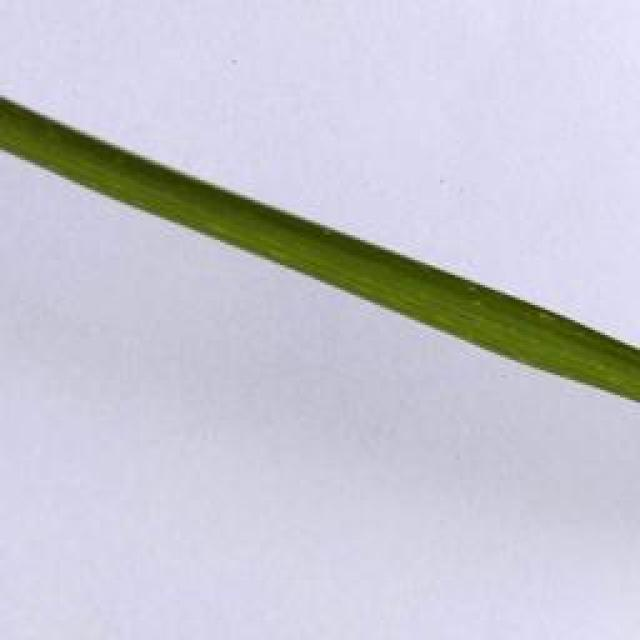Healthy-Plant: (0, 92, 640, 405)
